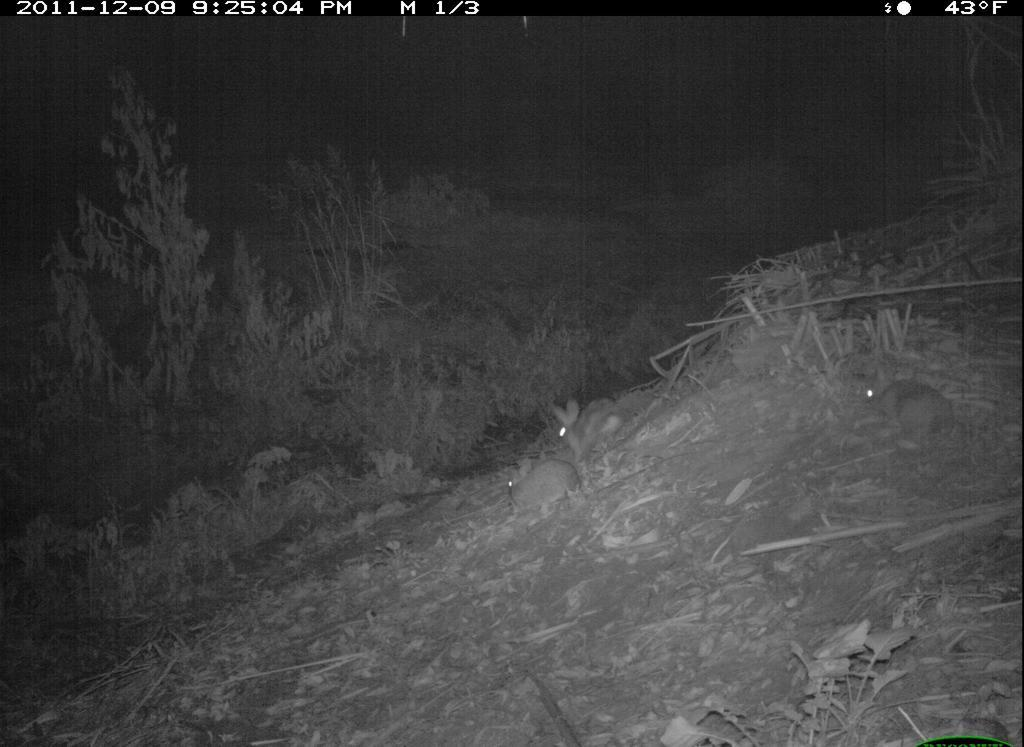rabbit: (855, 354, 961, 453), (549, 389, 631, 466), (498, 450, 587, 520)
